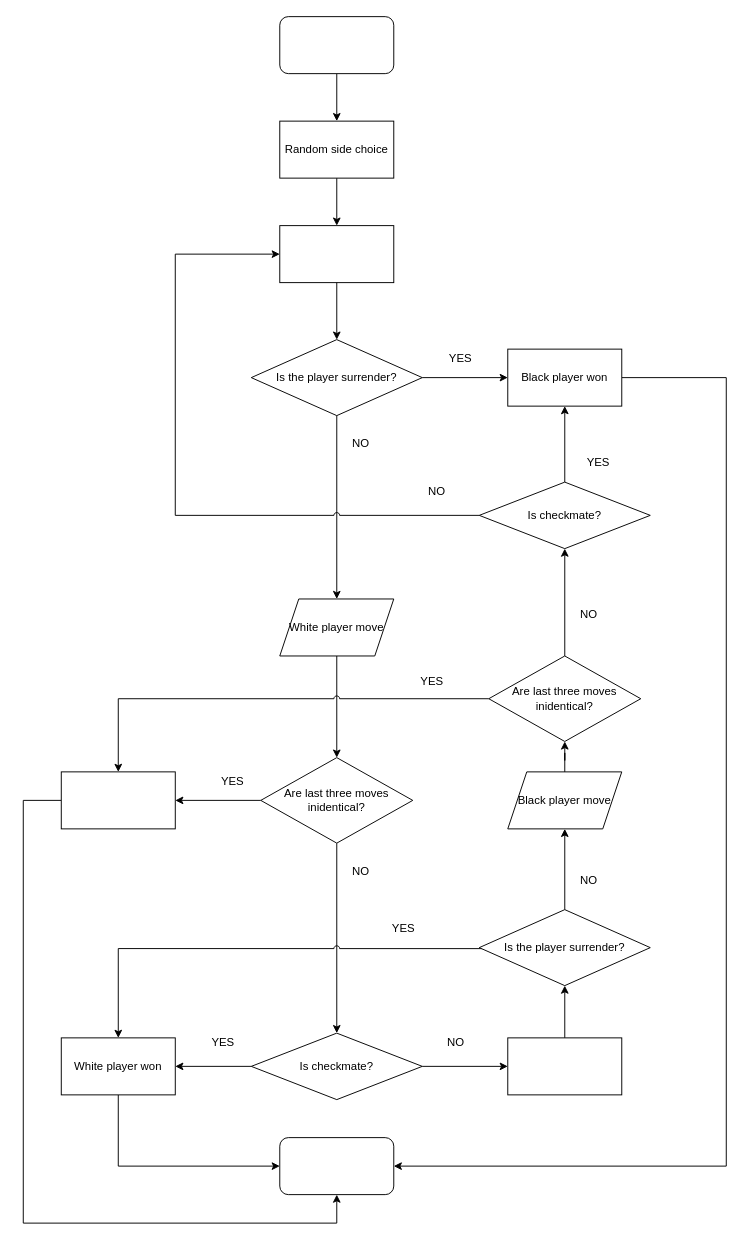
The diagram is 751 pixels wide and 1247 high, and some of its shapes have lost their labels. The centre of each missing label's shape, as x and y in pixels:
Black player turn: pixel 564 1066
END GAME: pixel 336 1166
START GAME: pixel 336 45
Tie: pixel 117 800
White player turn: pixel 336 254
